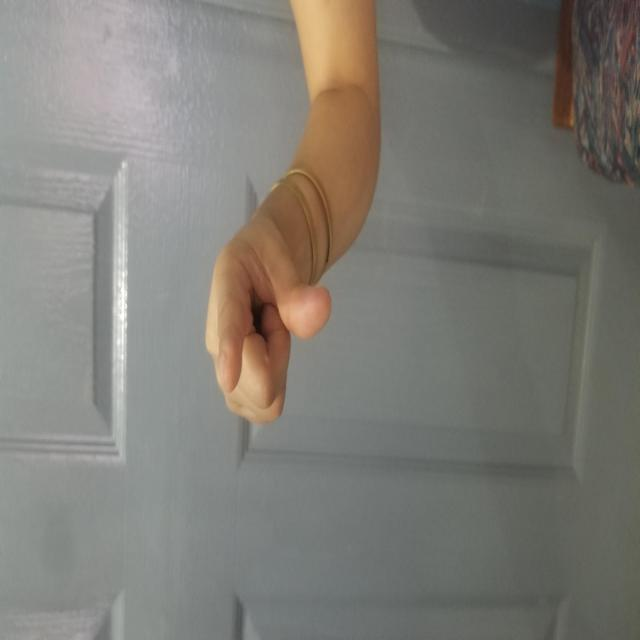Z: (188, 195, 342, 441)
